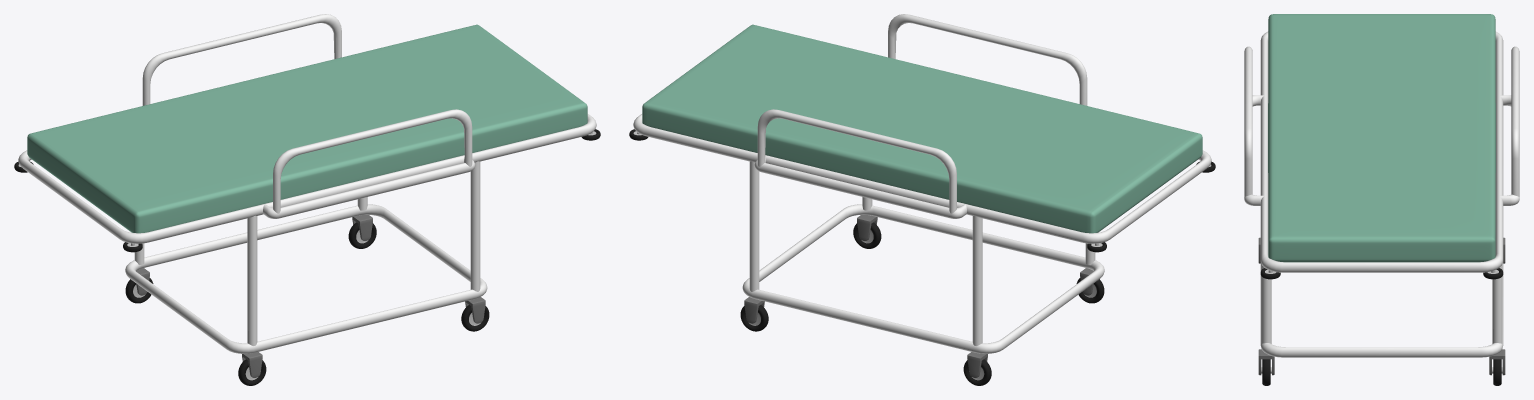
The model's file is Bed.FBX.
3 renders of one model, left to right at view 1: azimuth 30°, elevation 25°; view 2: azimuth 150°, elevation 25°; view 3: azimuth 270°, elevation 25°, orthographic. The views are drawn at different scales.
Parts seen in each view (by area): view 1: cadnav.com; view 2: cadnav.com; view 3: cadnav.com.
Boxes of the visible parts, x1,y1,x2,y2 form: cadnav.com: (14, 14, 600, 385); cadnav.com: (629, 14, 1215, 385); cadnav.com: (1244, 14, 1519, 385).
Bounding box in the file's own units: 805 × 380 × 395.
